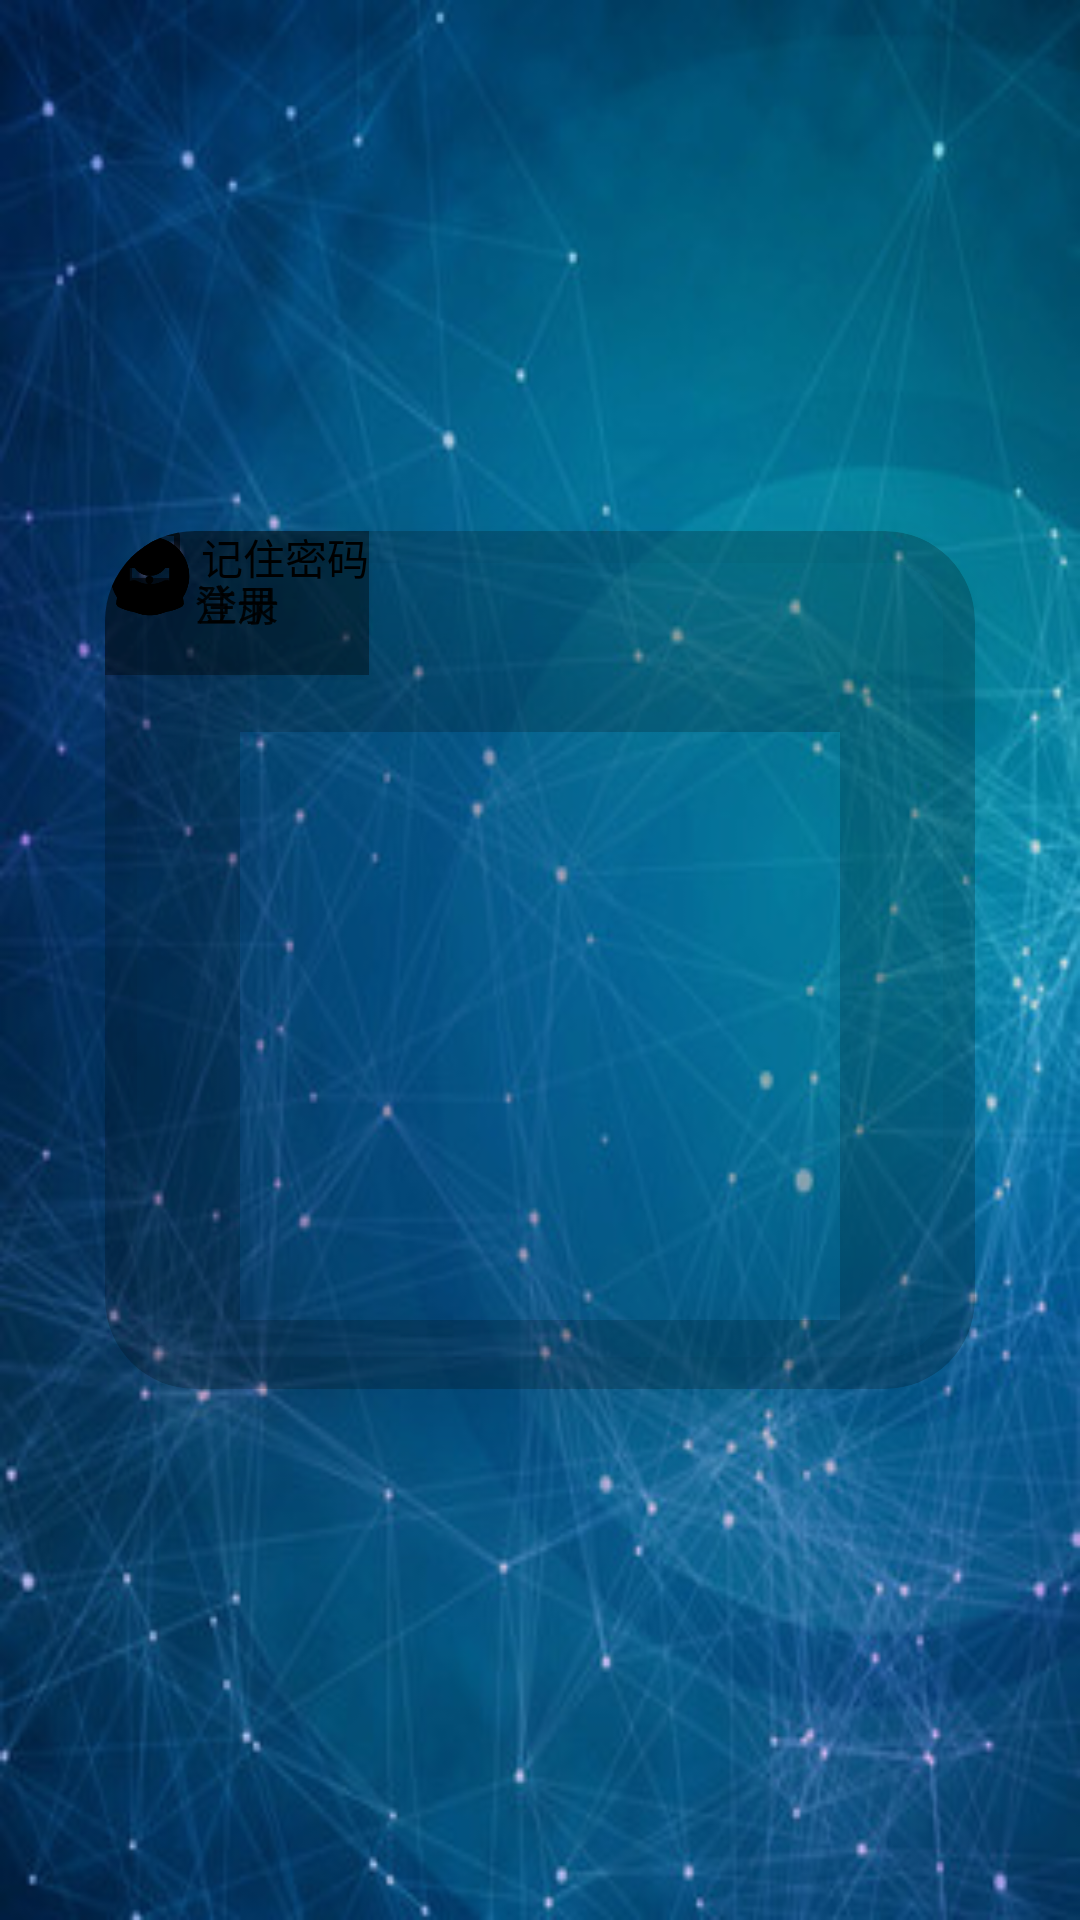

Named icons in this screenshot (1080 × 1920) and their centers, (x,y):
account: (150,576)
